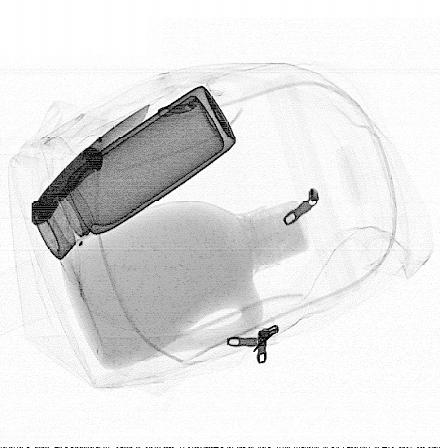Knife: (31, 102, 151, 226)
